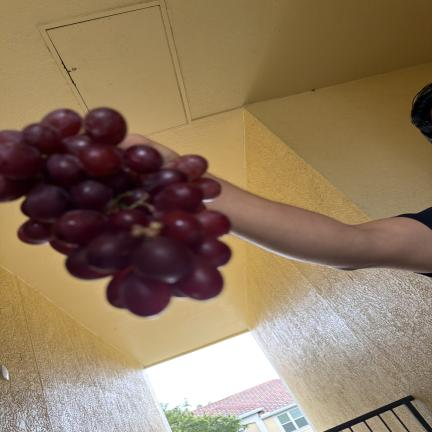grape_cluster: (0, 108, 231, 317)
